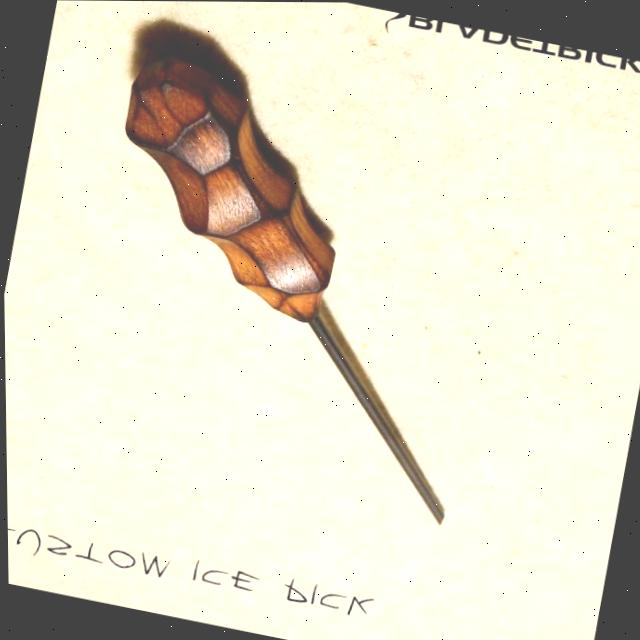ice pick: (61, 48, 518, 525)
